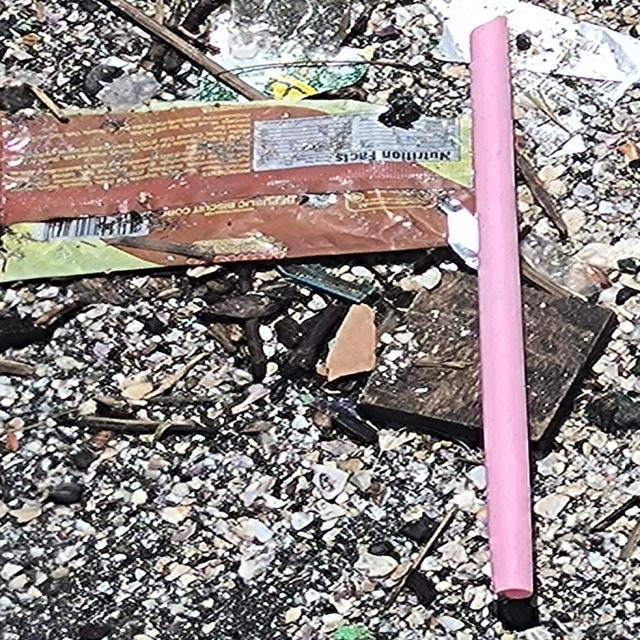litter: (0, 98, 478, 281), (469, 12, 537, 603)
